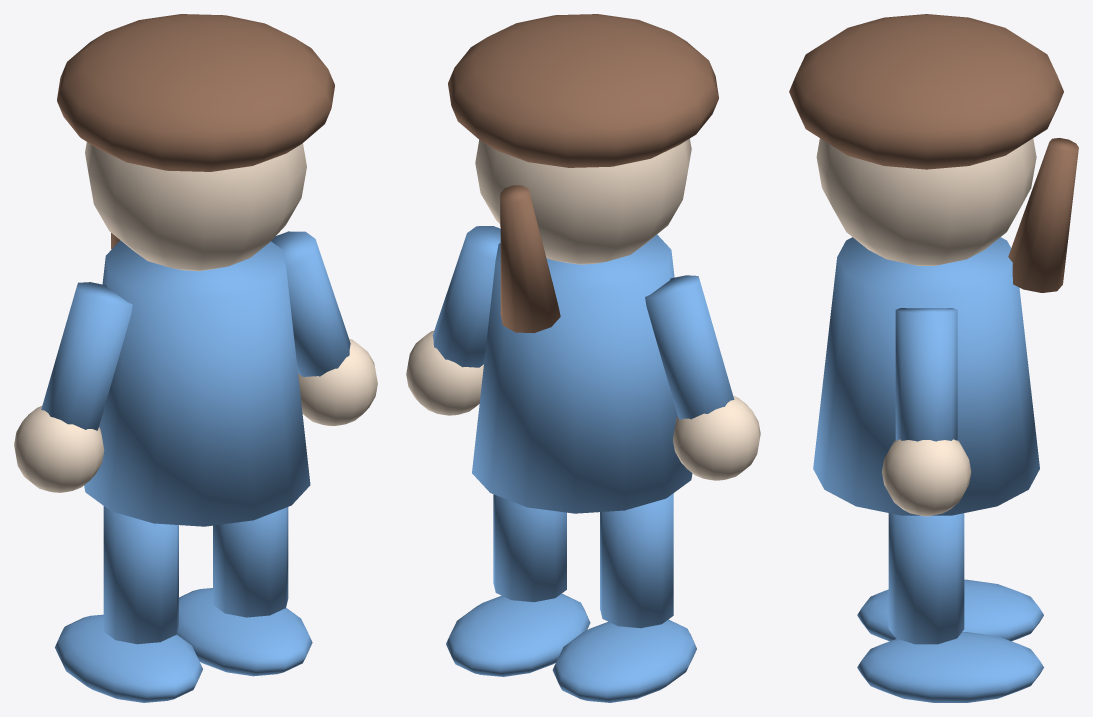
The model's file is mii_tenant_female.glb.
3 renders of one model, left to right at view 1: azimuth 30°, elevation 25°; view 2: azimuth 150°, elevation 25°; view 3: azimuth 270°, elevation 25°, orthographic. The views are drawn at different scales.
Visible parts, largest first — view 1: Torso, Hair, Head, Leg_L, Arm_L, Foot_L, Foot_R, Leg_R, Arm_R, Hand_L, Hand_R; view 2: Torso, Hair, Head, Foot_L, Leg_L, Foot_R, Arm_L, Leg_R, Ponytail, Arm_R, Hand_L, Hand_R; view 3: Torso, Hair, Head, Foot_R, Leg_R, Arm_R, Ponytail, Hand_R, Foot_L.
Boxes of the visible parts, x1=… form: Torso: x1=84, y1=240, x2=310, y2=526; Hair: x1=57, y1=14, x2=334, y2=171; Head: x1=85, y1=142, x2=306, y2=271; Leg_L: x1=103, y1=506, x2=178, y2=644; Arm_L: x1=41, y1=282, x2=132, y2=430; Foot_L: x1=55, y1=614, x2=202, y2=702; Foot_R: x1=177, y1=588, x2=312, y2=676; Leg_R: x1=213, y1=507, x2=288, y2=617; Arm_R: x1=271, y1=231, x2=350, y2=376; Hand_L: x1=14, y1=406, x2=104, y2=492; Hand_R: x1=298, y1=339, x2=377, y2=426; Torso: x1=472, y1=234, x2=692, y2=513; Hair: x1=448, y1=14, x2=718, y2=167; Head: x1=475, y1=138, x2=691, y2=264; Foot_L: x1=552, y1=619, x2=696, y2=702; Leg_L: x1=600, y1=493, x2=673, y2=628; Foot_R: x1=446, y1=593, x2=590, y2=676; Arm_L: x1=645, y1=275, x2=734, y2=419; Leg_R: x1=493, y1=494, x2=566, y2=602; Ponytail: x1=500, y1=185, x2=560, y2=332; Arm_R: x1=432, y1=226, x2=500, y2=367; Hand_L: x1=673, y1=396, x2=760, y2=480; Hand_R: x1=406, y1=330, x2=483, y2=415; Torso: x1=813, y1=237, x2=1039, y2=515; Hair: x1=789, y1=14, x2=1063, y2=169; Head: x1=816, y1=138, x2=1036, y2=265; Foot_R: x1=857, y1=632, x2=1043, y2=702; Leg_R: x1=888, y1=513, x2=964, y2=644; Arm_R: x1=895, y1=308, x2=957, y2=441; Ponytail: x1=1008, y1=138, x2=1078, y2=292; Hand_R: x1=882, y1=439, x2=971, y2=516; Foot_L: x1=857, y1=579, x2=1043, y2=641.
Size of the model in its own units: 0.5767 by 1 by 0.4215.
